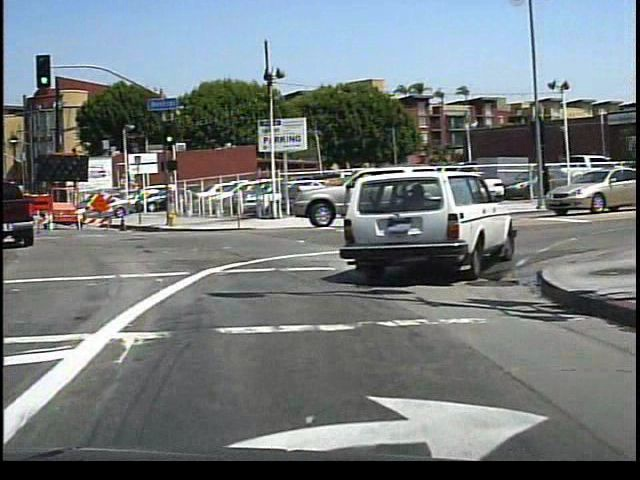person: (535, 163, 554, 206)
